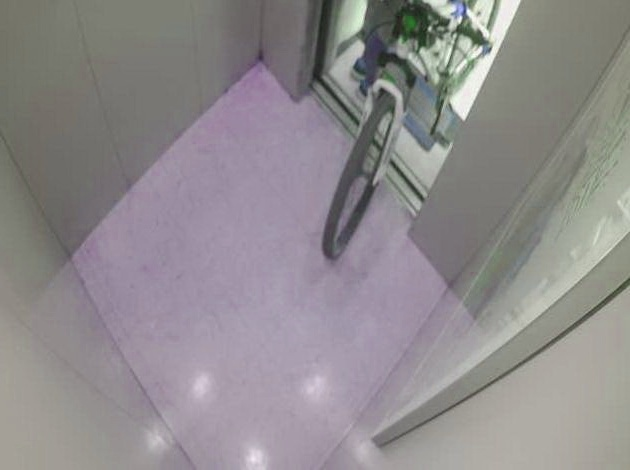bicycle: (319, 2, 505, 262)
